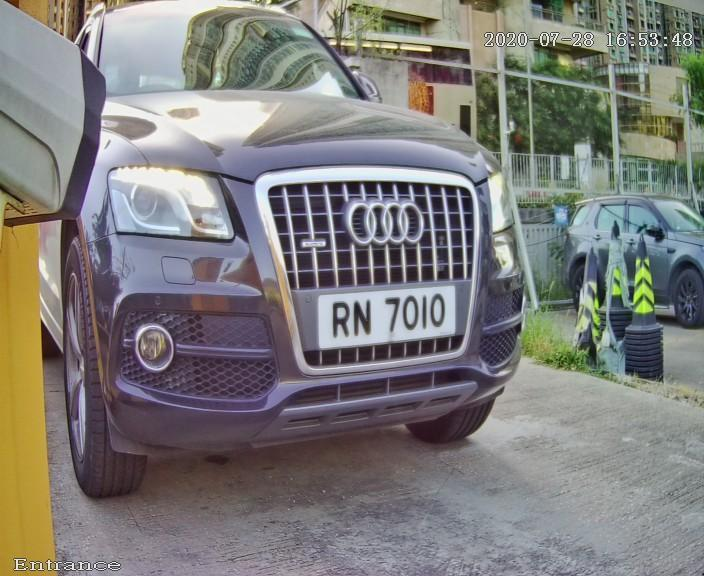privatecar: (26, 3, 595, 517)
